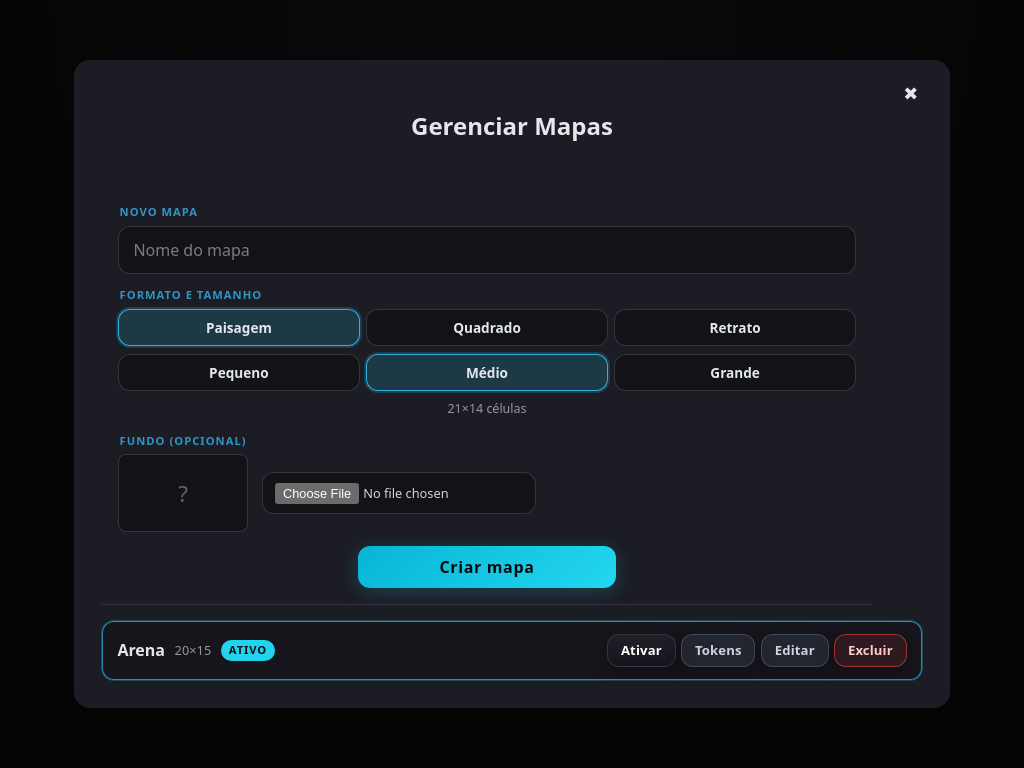
Test: MapManager › abre o painel de tokens e lista personagens fora do mapa
The width and height of the screenshot is (1024, 768).
Click the button "Tokens": [718, 650] box [681, 634, 755, 667]
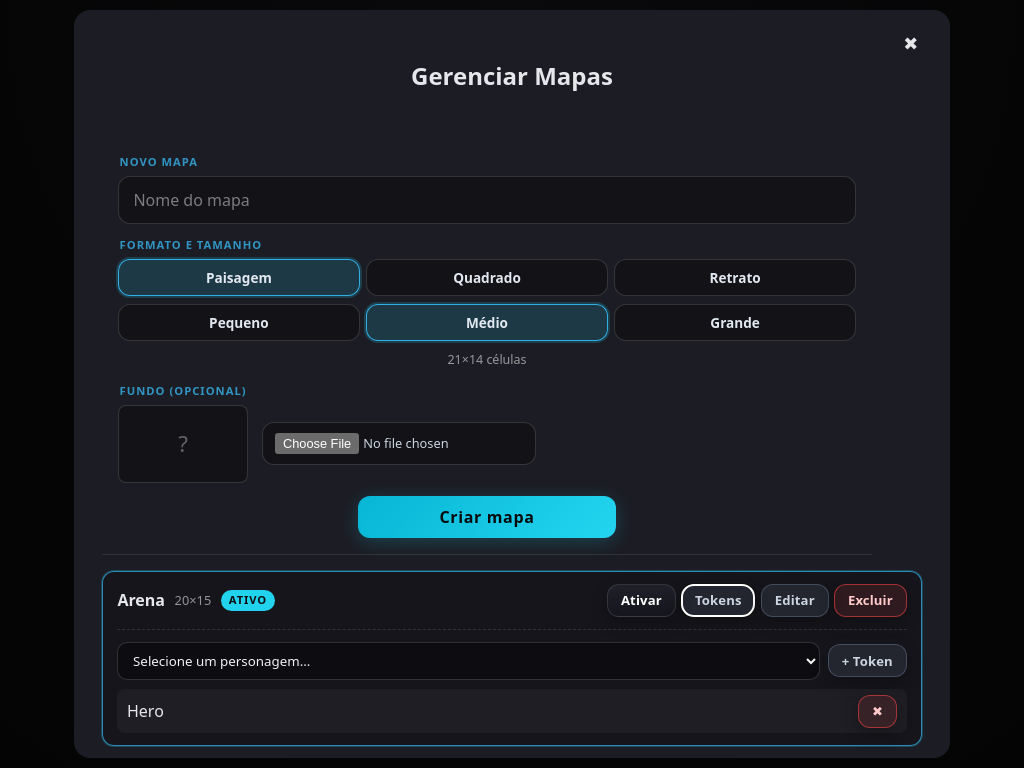
Expected: the text "Hero" is shown, [127, 700, 164, 724]
